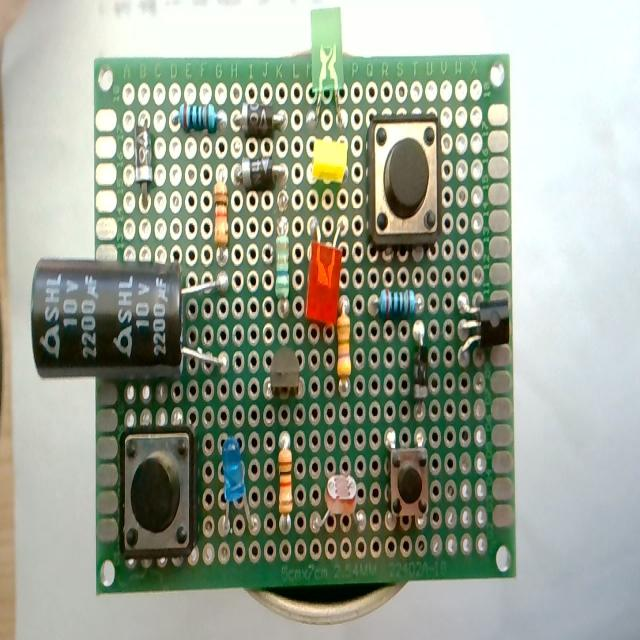Electrolytic capacitor: (20, 244, 240, 398)
cds: (313, 457, 367, 547)
diode: (228, 140, 292, 193), (232, 102, 288, 144), (408, 330, 430, 436)
led: (304, 7, 350, 137), (305, 209, 347, 323), (217, 435, 259, 542), (307, 135, 349, 197)
resistor: (270, 436, 298, 542), (335, 296, 361, 396), (270, 218, 296, 316), (374, 278, 426, 323)
switch: (116, 420, 202, 566), (363, 110, 443, 252), (388, 428, 438, 534)
transistor: (458, 282, 506, 372), (257, 342, 311, 422)
